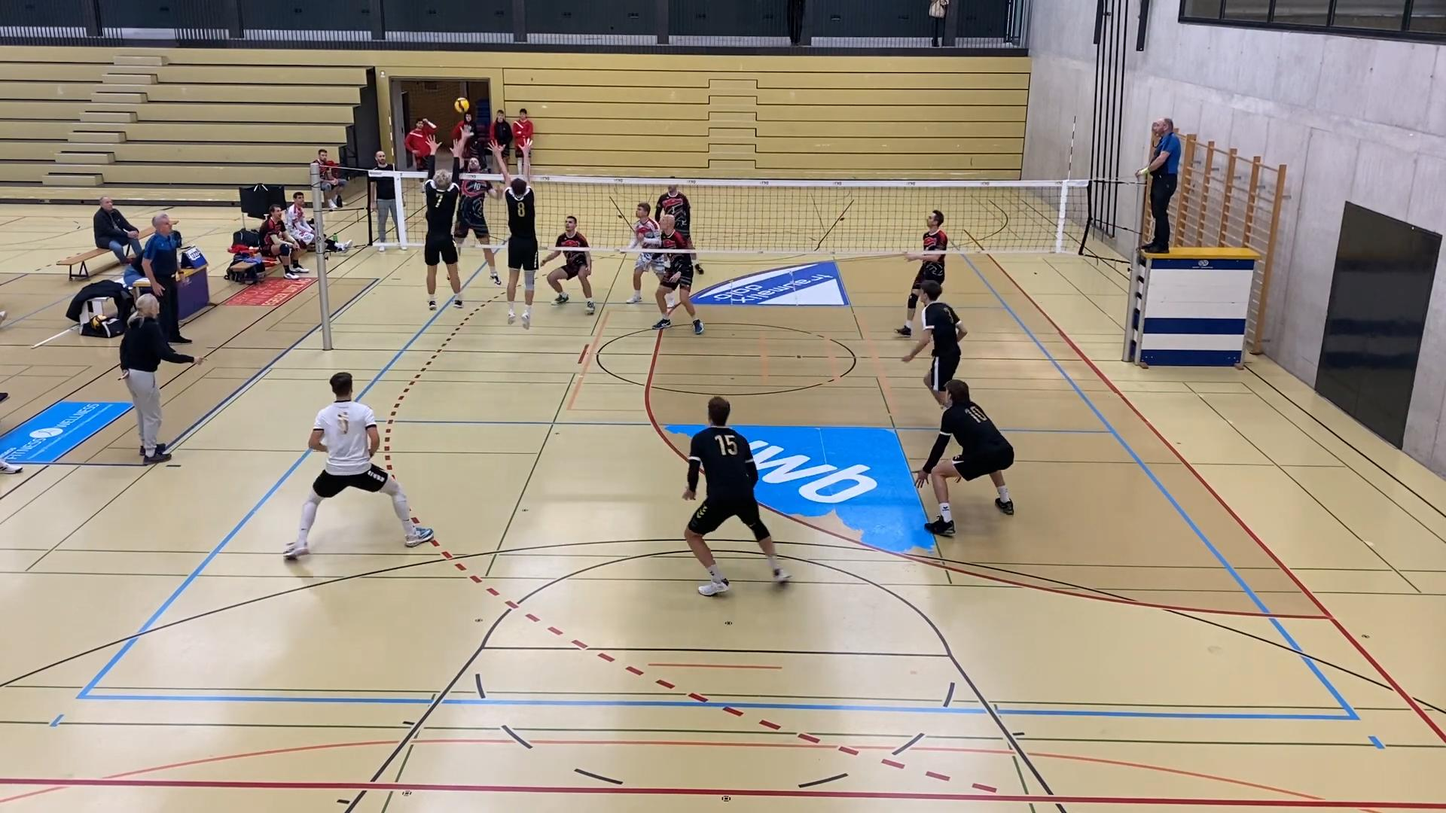Attack: (448, 129, 501, 284)
Block: (417, 131, 473, 316)
Player: (285, 373, 433, 559), (682, 397, 790, 595), (916, 379, 1014, 535), (902, 280, 966, 406), (896, 210, 947, 336), (652, 215, 703, 334), (541, 215, 595, 314), (627, 202, 664, 303), (656, 184, 690, 243)
ball: (452, 93, 466, 110)
